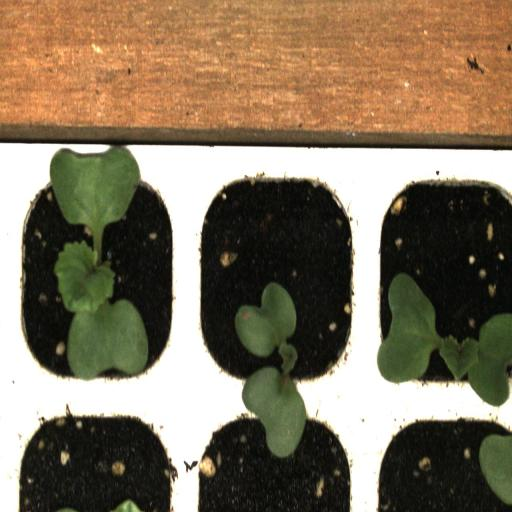Folha: (235, 282, 308, 459), (479, 434, 512, 506)
Germinacao: (185, 168, 367, 407), (1, 162, 184, 394), (368, 165, 512, 412)
